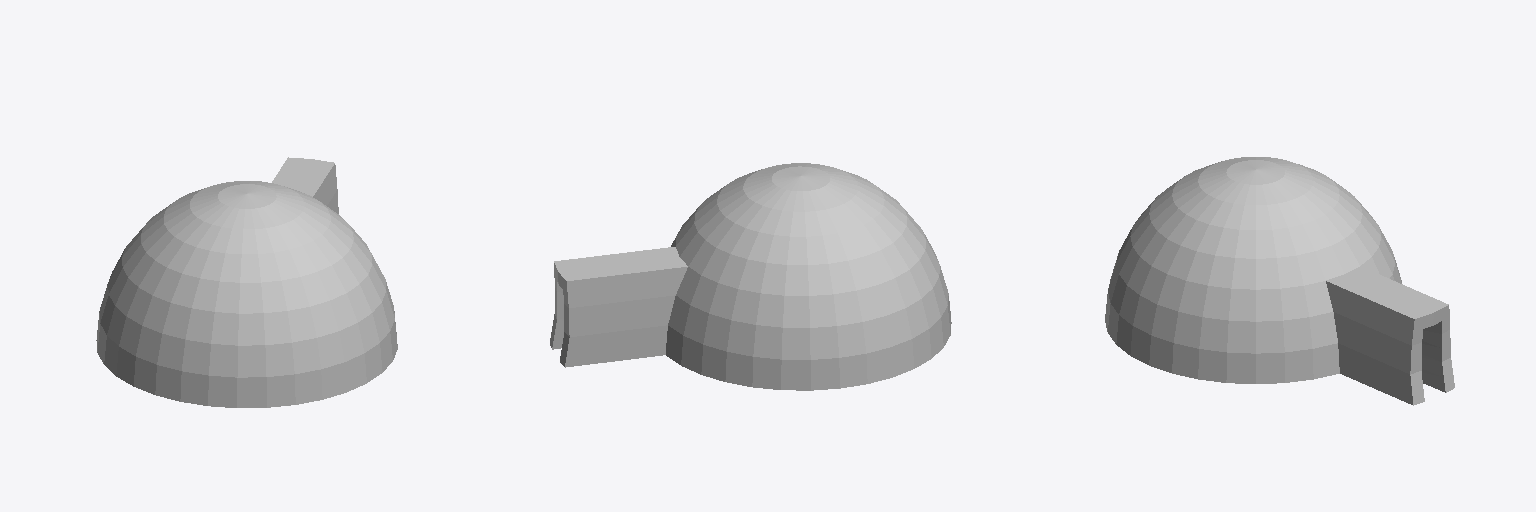
The model's file is snow_igloo_obj.obj.
3 renders of one model, left to right at view 1: azimuth 30°, elevation 25°; view 2: azimuth 150°, elevation 25°; view 3: azimuth 270°, elevation 25°, orthographic.
Visible parts, largest first — view 1: Sphere.000; view 2: Sphere.000; view 3: Sphere.000.
Part boxes in pixels (bbox=[...]): Sphere.000: bbox=[96, 157, 397, 407]; Sphere.000: bbox=[550, 163, 951, 390]; Sphere.000: bbox=[1105, 157, 1454, 405].
Size of the model in its own units: 16.11 by 7.74 by 16.11.